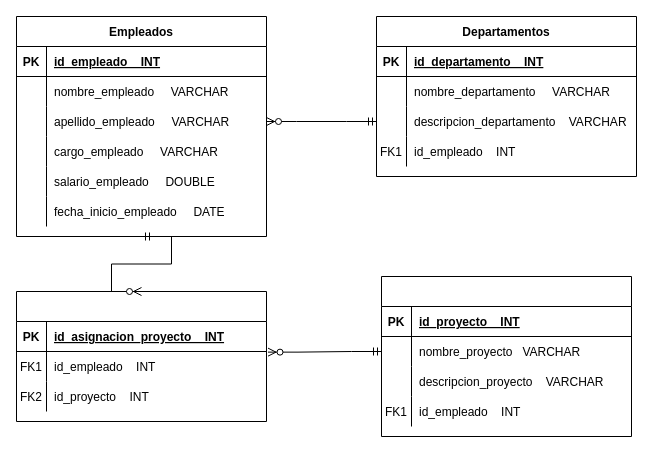
The diagram is 653 pixels wide and 453 high, and some of its shapes have lost their labels. Here are the shapes that lost their labels. From the top down, the box of each, then its label:
(16, 290, 266, 422): Asignacion_proyectos
(380, 276, 632, 436): Proyectos
